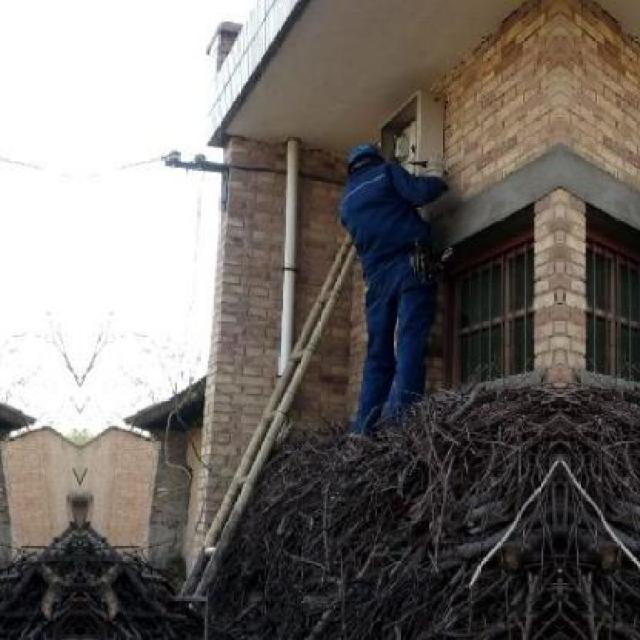helmet: (344, 140, 385, 180)
